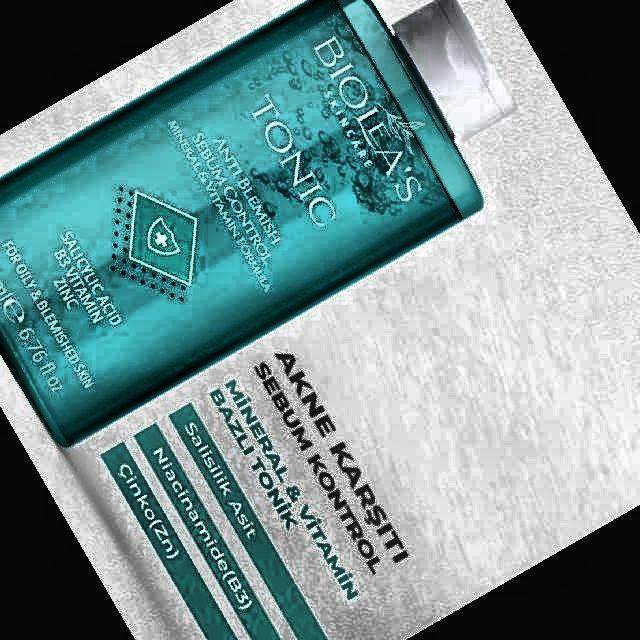plastic: (0, 0, 480, 445)
